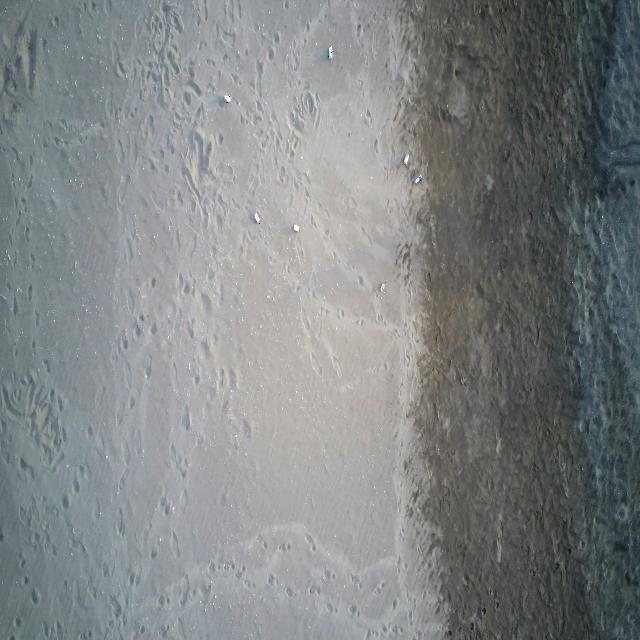tin-and-aluminum-cans: (403, 153, 410, 166), (415, 174, 422, 185), (254, 212, 260, 224), (224, 94, 232, 103), (328, 46, 333, 60), (380, 282, 386, 293), (293, 224, 300, 233)
